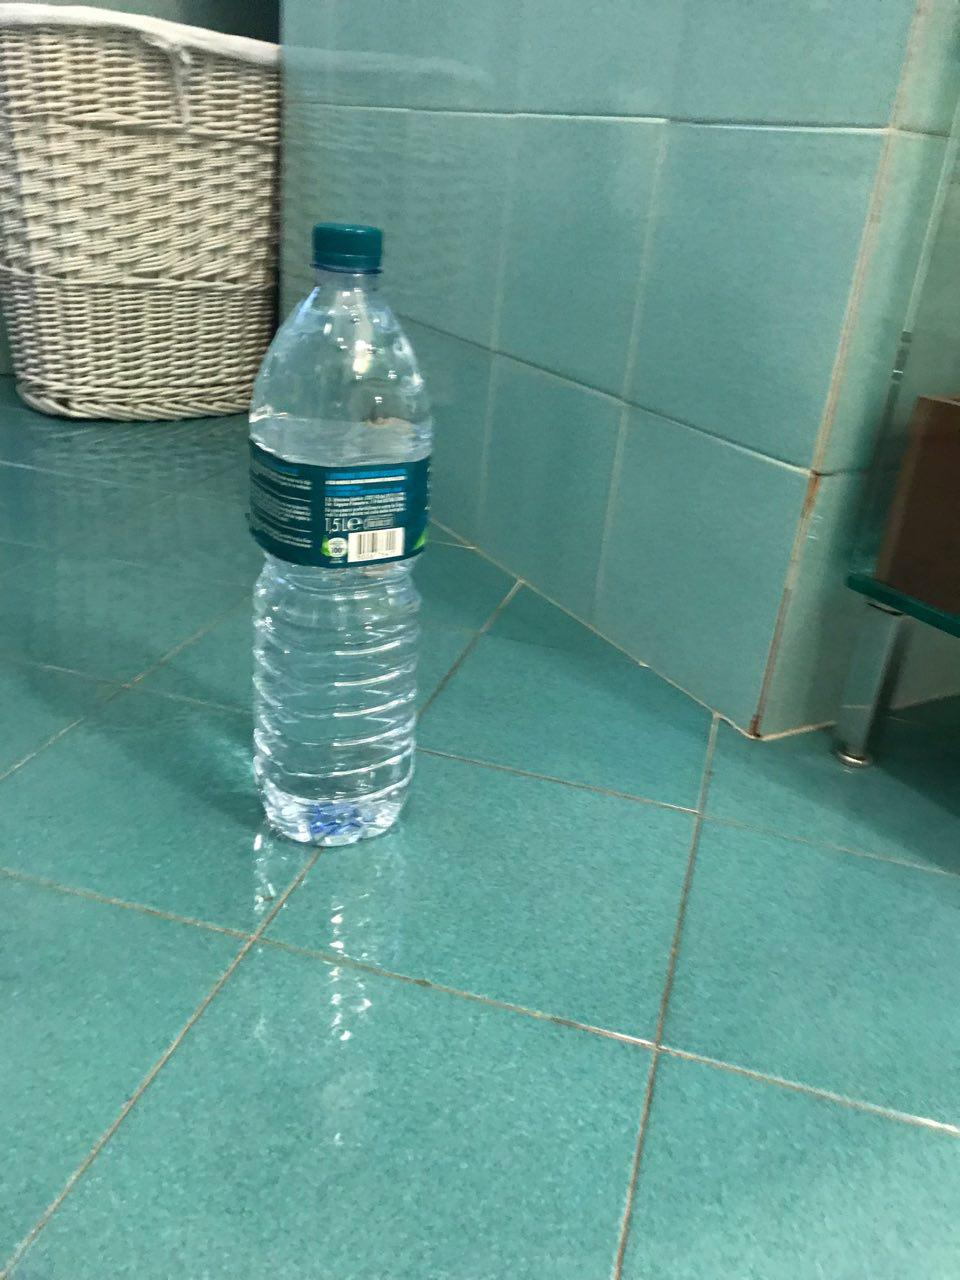san_bernardo: (247, 219, 434, 848)
